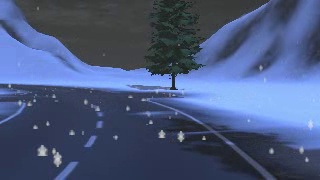Lane: (0, 85, 272, 179)
